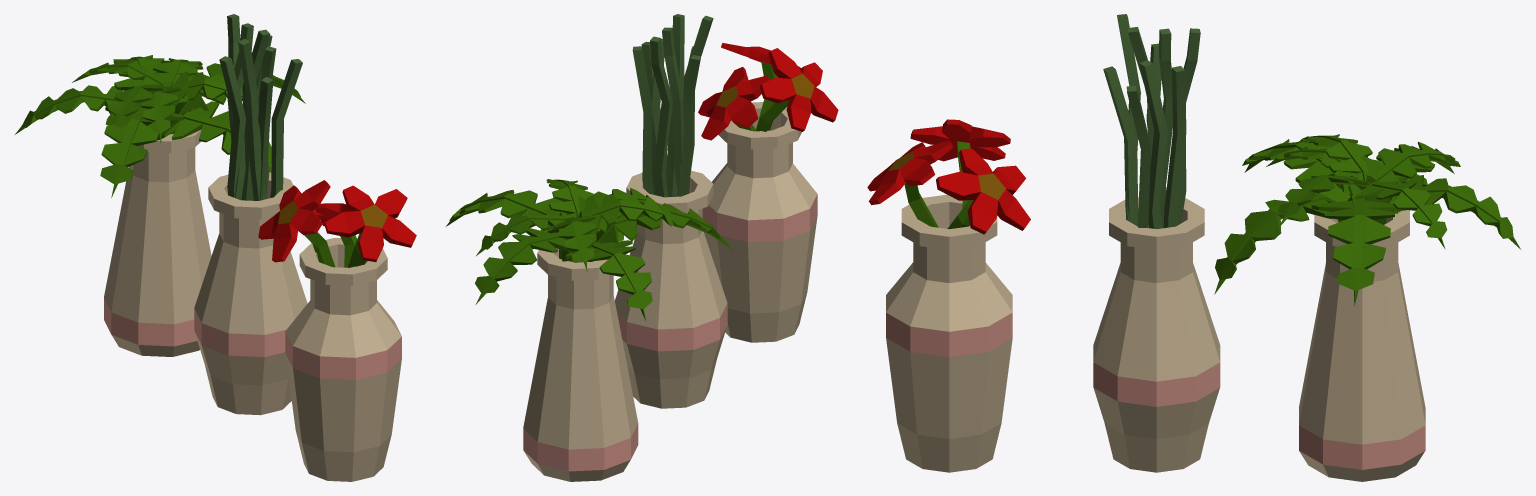
File: Mansion_Potted_plant.fbx
3 renders of one model, left to right at view 1: azimuth 30°, elevation 25°; view 2: azimuth 150°, elevation 25°; view 3: azimuth 270°, elevation 25°, orthographic. The views are drawn at different scales.
Visible parts, largest first — view 1: Dec_Pot_2, Flowers_Pot_Red, Dec_Pot_1; view 2: Dec_Pot_2, Flowers_Pot_Red, Dec_Pot_1; view 3: Dec_Pot_2, Dec_Pot_1, Flowers_Pot_Red.
Part boxes in pixels (box(x1,y1,x2,y2)): Dec_Pot_2: box(15, 55, 305, 356); Flowers_Pot_Red: box(258, 180, 416, 481); Dec_Pot_1: box(194, 14, 307, 415); Dec_Pot_2: box(446, 179, 732, 481); Flowers_Pot_Red: box(698, 43, 838, 342); Dec_Pot_1: box(615, 14, 727, 408); Dec_Pot_2: box(1214, 134, 1520, 481); Dec_Pot_1: box(1093, 14, 1220, 472); Flowers_Pot_Red: box(867, 119, 1030, 472).
Bounding box in the file's own units: 49.14 × 71.71 × 98.91.
